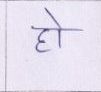e_matra: (45, 8, 64, 28)
